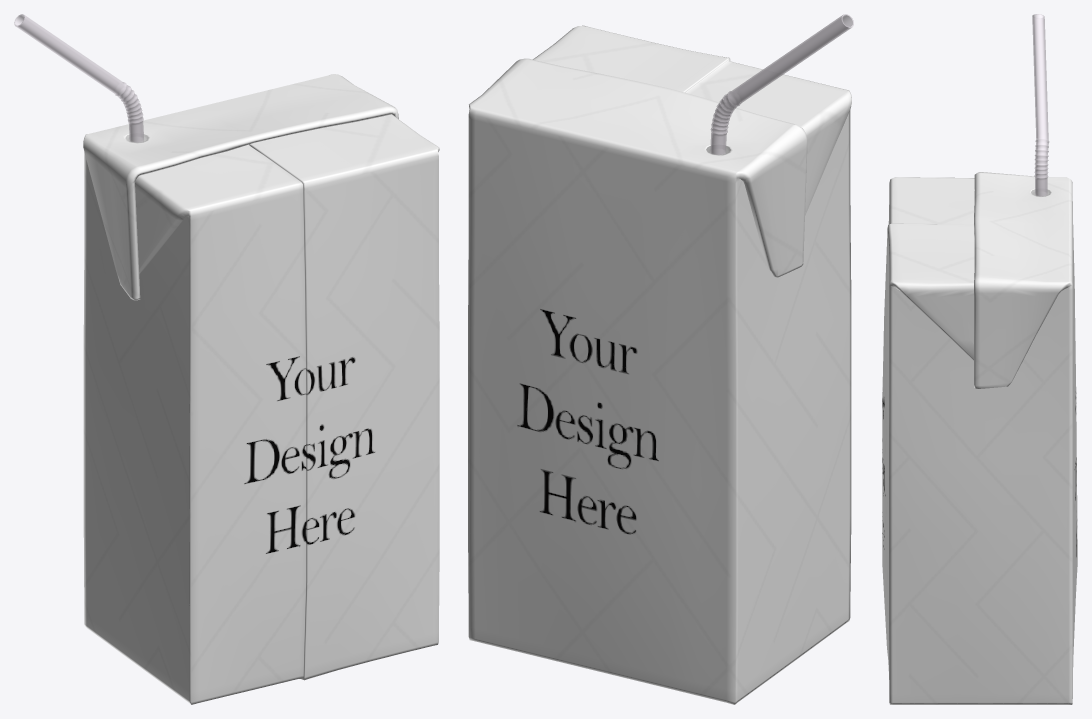
Rendered from Beverage Cup.glb.
The picture shows the model from 3 angles, left to right: view 1: azimuth 30°, elevation 25°; view 2: azimuth 150°, elevation 25°; view 3: azimuth 270°, elevation 25°; orthographic projection. The views are drawn at different scales.
Visible parts, largest first — view 1: Object_2, Object_3; view 2: Object_2, Object_3; view 3: Object_2, Object_3.
Part boxes in pixels (x1,y1,x2,y2): Object_2: (83,74,439,704); Object_3: (14,14,143,142); Object_2: (468,25,851,704); Object_3: (710,14,853,154); Object_2: (882,172,1077,704); Object_3: (1032,14,1049,196).
Bounding box in the file's own units: 10.54 × 18.81 × 5.98.
3 materials, 1 textured.
